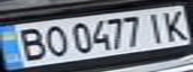0: (69, 19, 93, 54)
4: (90, 16, 112, 52)
7: (121, 12, 145, 47), (106, 15, 127, 49)
B: (9, 25, 51, 63)
I: (142, 9, 172, 44)
K: (157, 7, 193, 42)
O: (36, 24, 69, 58)
